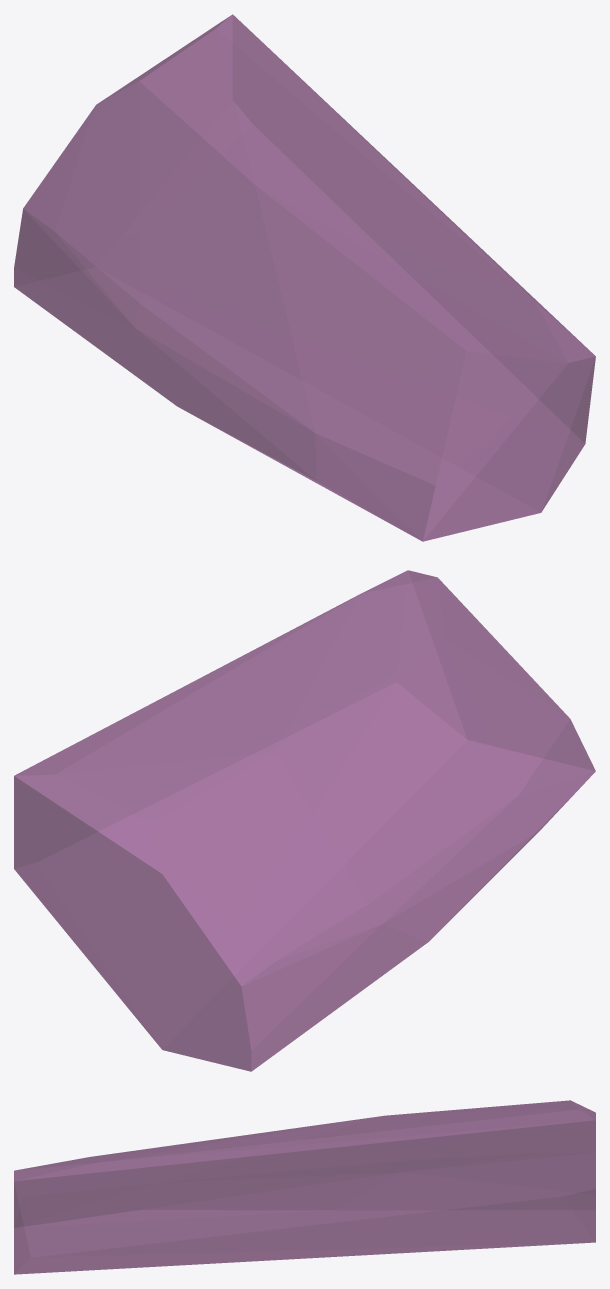
The picture shows the model from 3 angles, top to bottom: view 1: azimuth 30°, elevation 25°; view 2: azimuth 150°, elevation 25°; view 3: azimuth 270°, elevation 25°; orthographic projection. The views are drawn at different scales.
Visible parts, largest first — view 1: Shape_IndexedFaceSet.024_Shape_IndexedFaceSet.7630; view 2: Shape_IndexedFaceSet.024_Shape_IndexedFaceSet.7630; view 3: Shape_IndexedFaceSet.024_Shape_IndexedFaceSet.7630.
Part boxes in pixels (<box>): Shape_IndexedFaceSet.024_Shape_IndexedFaceSet.7630: <box>14,14,595,541</box>; Shape_IndexedFaceSet.024_Shape_IndexedFaceSet.7630: <box>14,570,595,1071</box>; Shape_IndexedFaceSet.024_Shape_IndexedFaceSet.7630: <box>14,1100,595,1274</box>.
Bounding box in the file's own units: 0.0491 × 0.047 × 0.141.
